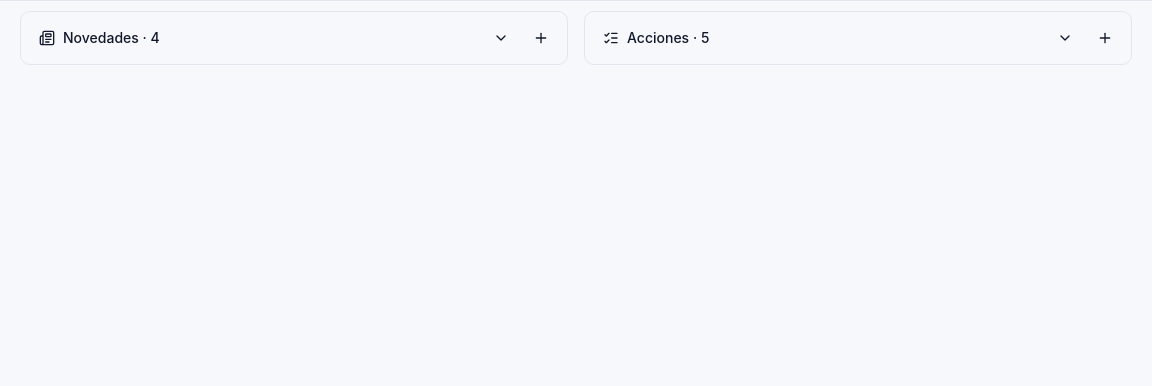
CasePortfolioFollowUp › expands and collapses every action inline
Click the button "Acciones · 5" at [658, 38], box [593, 22, 1083, 54]
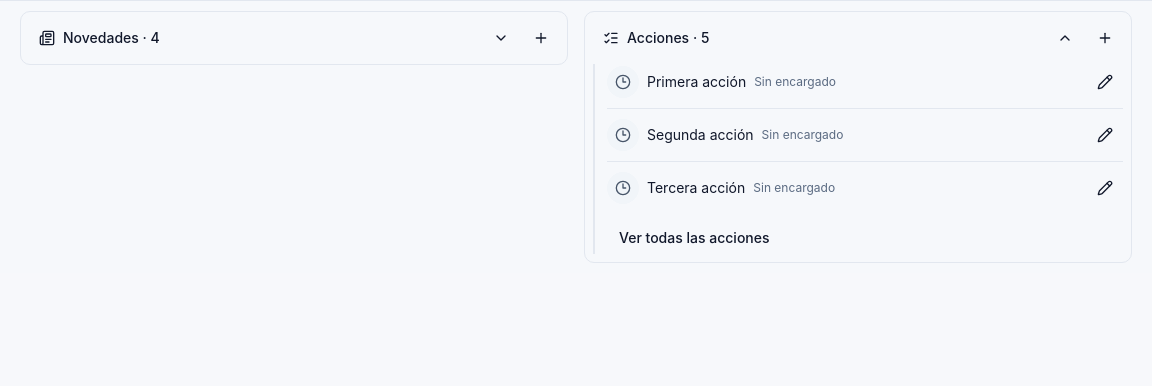
Click the button "Ver todas las acciones" at [694, 238], box [607, 222, 782, 254]
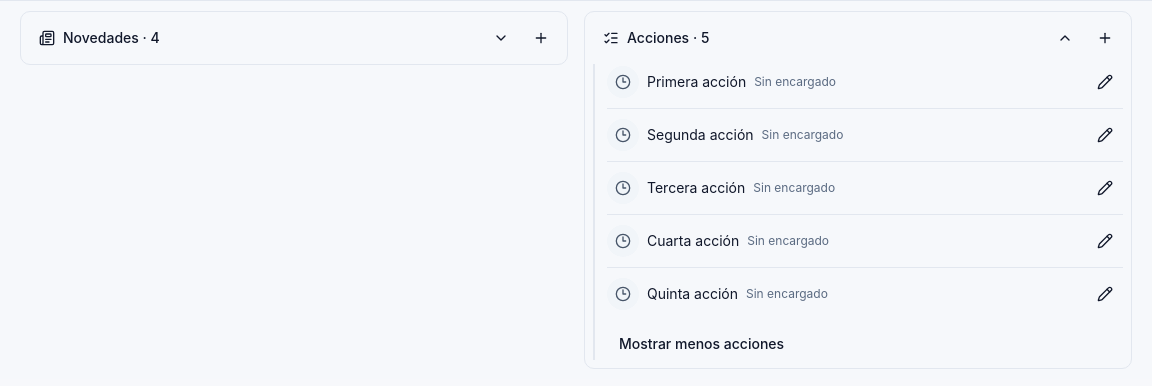
Result: the text "Quinta acción" is shown at [647, 284, 738, 304]
Click the button "Mostrar menos acciones" at [702, 344], box [607, 328, 796, 360]
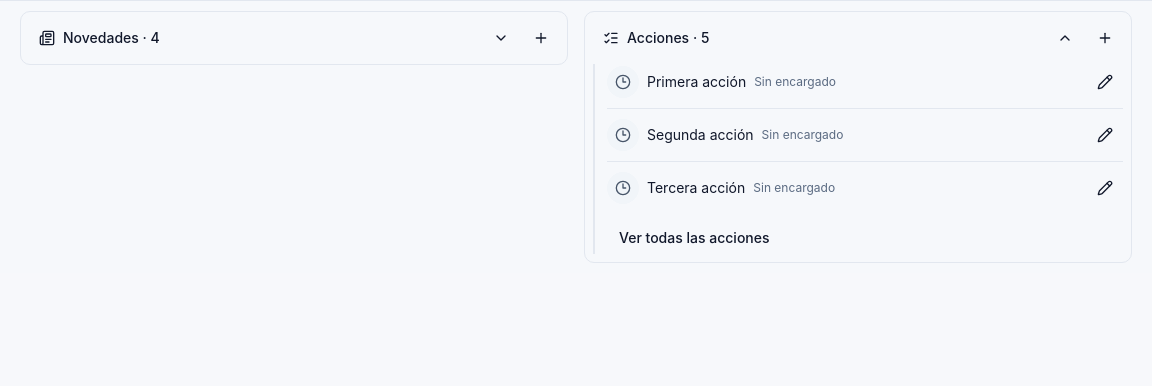
Result: the text "Primera acción" is shown at [647, 72, 746, 92]
Result: the text "Quinta acción" is gone
